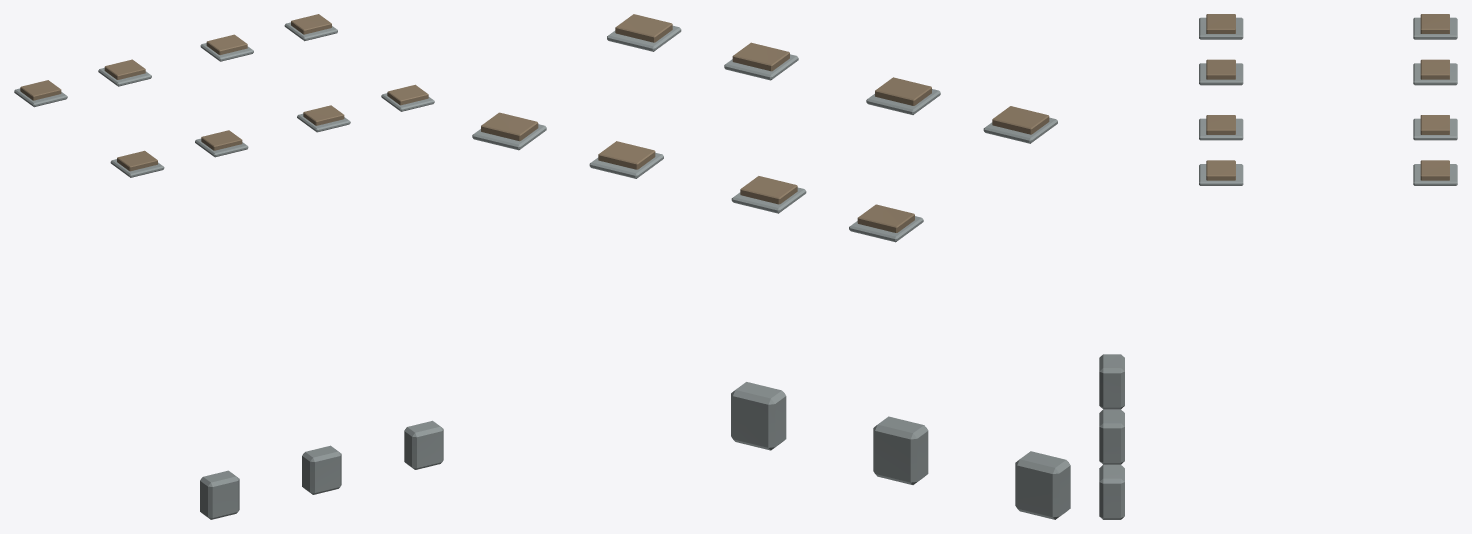
Rendered from retreat_finish_a5_runtime.glb.
3 renders of one model, left to right at view 1: azimuth 30°, elevation 25°; view 2: azimuth 150°, elevation 25°; view 3: azimuth 270°, elevation 25°, orthographic. The views are drawn at different scales.
Visible parts, largest first — view 1: Finish_A5_Arch_Rock_Socket_0, Finish_A5_Arch_Rock_Socket_2, Finish_A5_Arch_Rock_Socket_1, Finish_A5_Timber_Seat_1_0, Finish_A5_Timber_Seat_2_1, Finish_A5_Timber_Seat_2_0, Finish_A5_Timber_Seat_0_1, Finish_A5_Timber_Seat_3_0, Finish_A5_Timber_Seat_3_1, Finish_A5_Timber_Seat_0_0, Finish_A5_Timber_Seat_1_1; view 2: Finish_A5_Arch_Rock_Socket_1, Finish_A5_Arch_Rock_Socket_0, Finish_A5_Arch_Rock_Socket_2, Finish_A5_Timber_Seat_2_0, Finish_A5_Timber_Seat_0_0, Finish_A5_Timber_Seat_0_1, Finish_A5_Timber_Seat_1_1, Finish_A5_Timber_Seat_2_1, Finish_A5_Timber_Seat_3_0, Finish_A5_Timber_Seat_3_1, Finish_A5_Timber_Seat_1_0, Finish_A5_Abacus_Bearing_1_1 (+7 smaller); view 3: Finish_A5_Arch_Rock_Socket_0, Finish_A5_Arch_Rock_Socket_1, Finish_A5_Arch_Rock_Socket_2, Finish_A5_Timber_Seat_1_0, Finish_A5_Timber_Seat_1_1, Finish_A5_Timber_Seat_3_0, Finish_A5_Timber_Seat_3_1, Finish_A5_Timber_Seat_0_0, Finish_A5_Timber_Seat_2_0, Finish_A5_Timber_Seat_2_1, Finish_A5_Timber_Seat_0_1, Finish_A5_Abacus_Bearing_1_0 (+7 smaller).
Part boxes in pixels (bbox=[...]): Finish_A5_Arch_Rock_Socket_0: bbox=[200, 470, 239, 519]; Finish_A5_Arch_Rock_Socket_2: bbox=[404, 420, 443, 469]; Finish_A5_Arch_Rock_Socket_1: bbox=[302, 445, 341, 494]; Finish_A5_Timber_Seat_1_0: bbox=[201, 130, 242, 150]; Finish_A5_Timber_Seat_2_1: bbox=[206, 34, 247, 54]; Finish_A5_Timber_Seat_2_0: bbox=[303, 105, 344, 125]; Finish_A5_Timber_Seat_0_1: bbox=[20, 80, 61, 100]; Finish_A5_Timber_Seat_3_0: bbox=[387, 84, 428, 105]; Finish_A5_Timber_Seat_3_1: bbox=[291, 14, 331, 34]; Finish_A5_Timber_Seat_0_0: bbox=[117, 150, 157, 171]; Finish_A5_Timber_Seat_1_1: bbox=[104, 59, 145, 79]; Finish_A5_Arch_Rock_Socket_1: bbox=[873, 416, 928, 484]; Finish_A5_Arch_Rock_Socket_0: bbox=[1015, 451, 1070, 519]; Finish_A5_Arch_Rock_Socket_2: bbox=[731, 382, 786, 450]; Finish_A5_Timber_Seat_2_0: bbox=[732, 42, 789, 71]; Finish_A5_Timber_Seat_0_0: bbox=[992, 106, 1049, 134]; Finish_A5_Timber_Seat_0_1: bbox=[857, 204, 914, 232]; Finish_A5_Timber_Seat_1_1: bbox=[740, 176, 797, 204]; Finish_A5_Timber_Seat_2_1: bbox=[598, 141, 655, 169]; Finish_A5_Timber_Seat_3_0: bbox=[615, 14, 672, 42]; Finish_A5_Timber_Seat_3_1: bbox=[481, 112, 538, 141]; Finish_A5_Timber_Seat_1_0: bbox=[875, 77, 931, 105]; Finish_A5_Abacus_Bearing_1_1: bbox=[731, 187, 806, 213]; Finish_A5_Arch_Rock_Socket_0: bbox=[1099, 354, 1124, 409]; Finish_A5_Arch_Rock_Socket_1: bbox=[1099, 409, 1124, 464]; Finish_A5_Arch_Rock_Socket_2: bbox=[1099, 464, 1124, 519]; Finish_A5_Timber_Seat_1_0: bbox=[1206, 59, 1235, 79]; Finish_A5_Timber_Seat_1_1: bbox=[1420, 59, 1449, 79]; Finish_A5_Timber_Seat_3_0: bbox=[1206, 160, 1235, 180]; Finish_A5_Timber_Seat_3_1: bbox=[1420, 160, 1449, 180]; Finish_A5_Timber_Seat_0_0: bbox=[1206, 14, 1235, 33]; Finish_A5_Timber_Seat_2_0: bbox=[1206, 115, 1235, 134]; Finish_A5_Timber_Seat_2_1: bbox=[1420, 115, 1449, 134]; Finish_A5_Timber_Seat_0_1: bbox=[1420, 14, 1449, 33]; Finish_A5_Abacus_Bearing_1_0: bbox=[1199, 63, 1243, 85].
Bounding box in the file's own units: 11.96 × 12.26 × 10.96.
